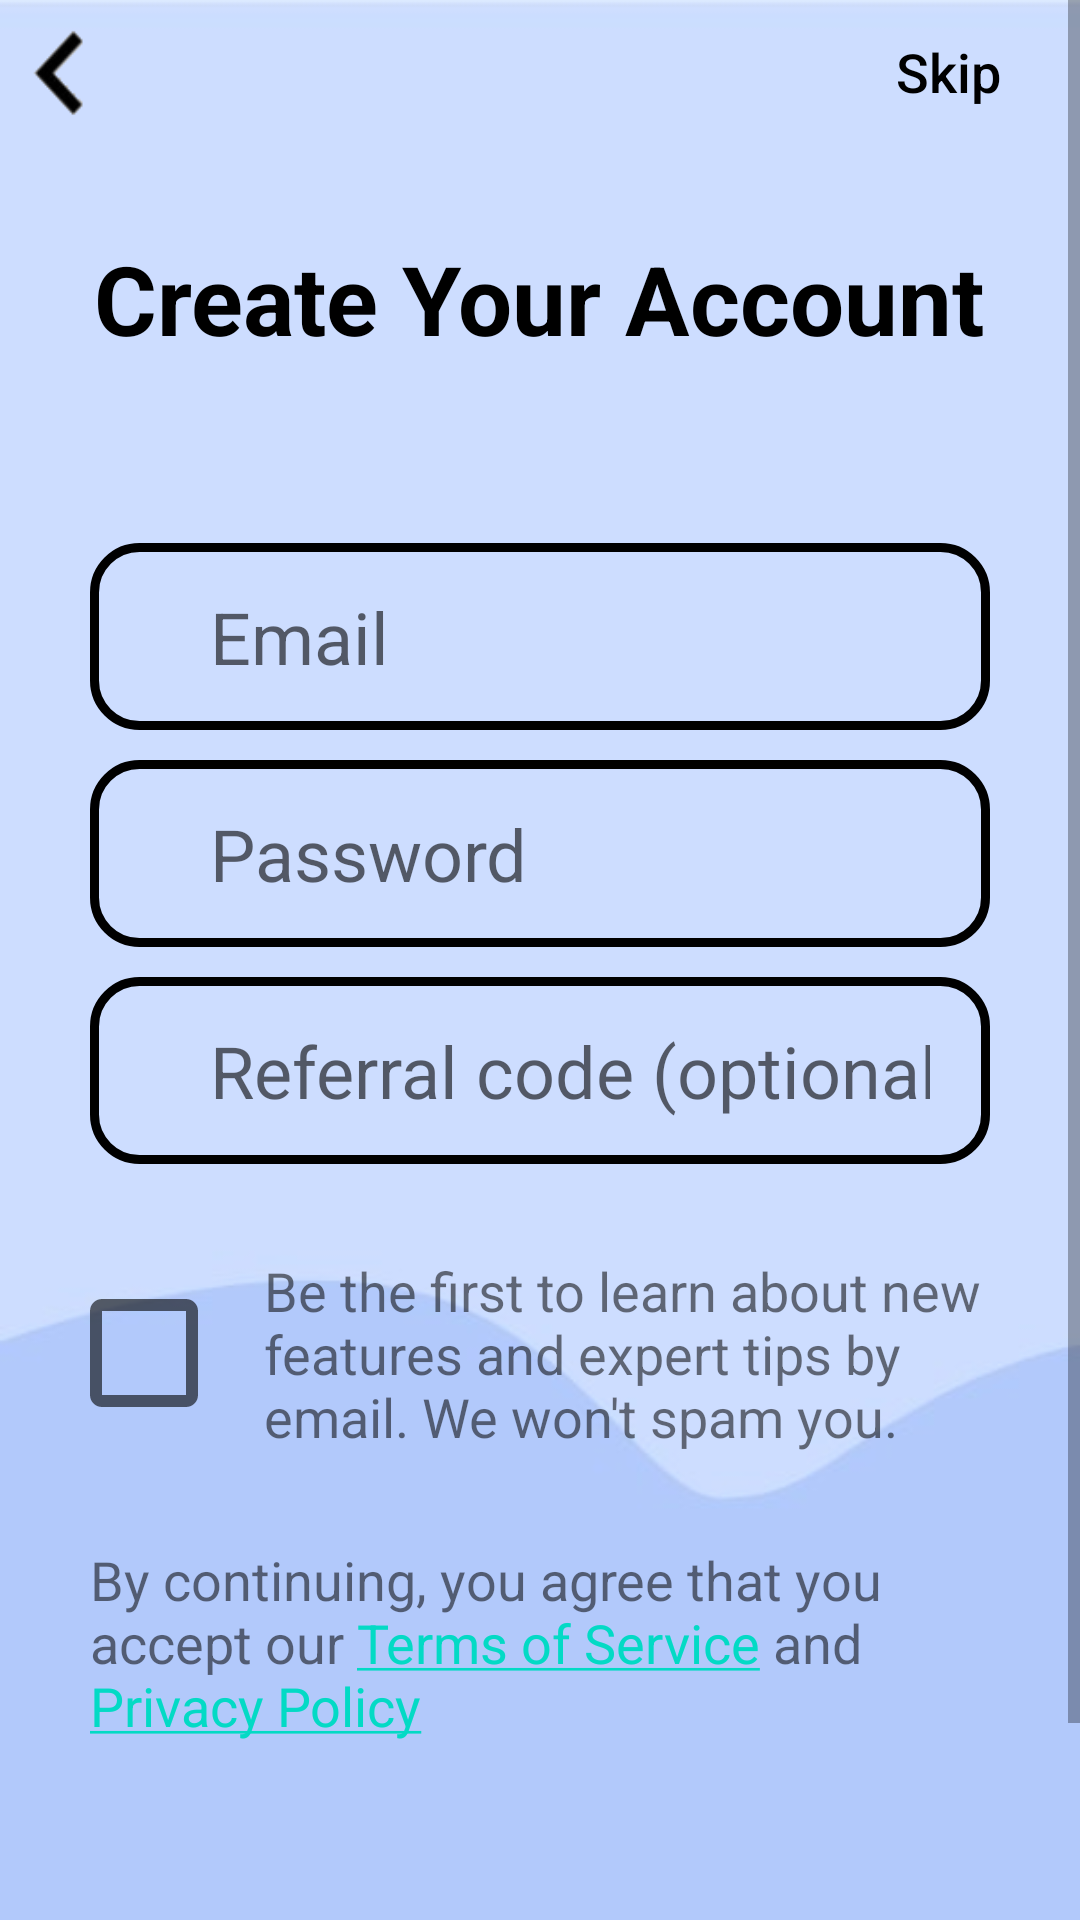

Screen size 1080x1920. Icon name, then its box in pixels as (x1, y1, x2, y2):
back arrow: (34, 31, 83, 115)
